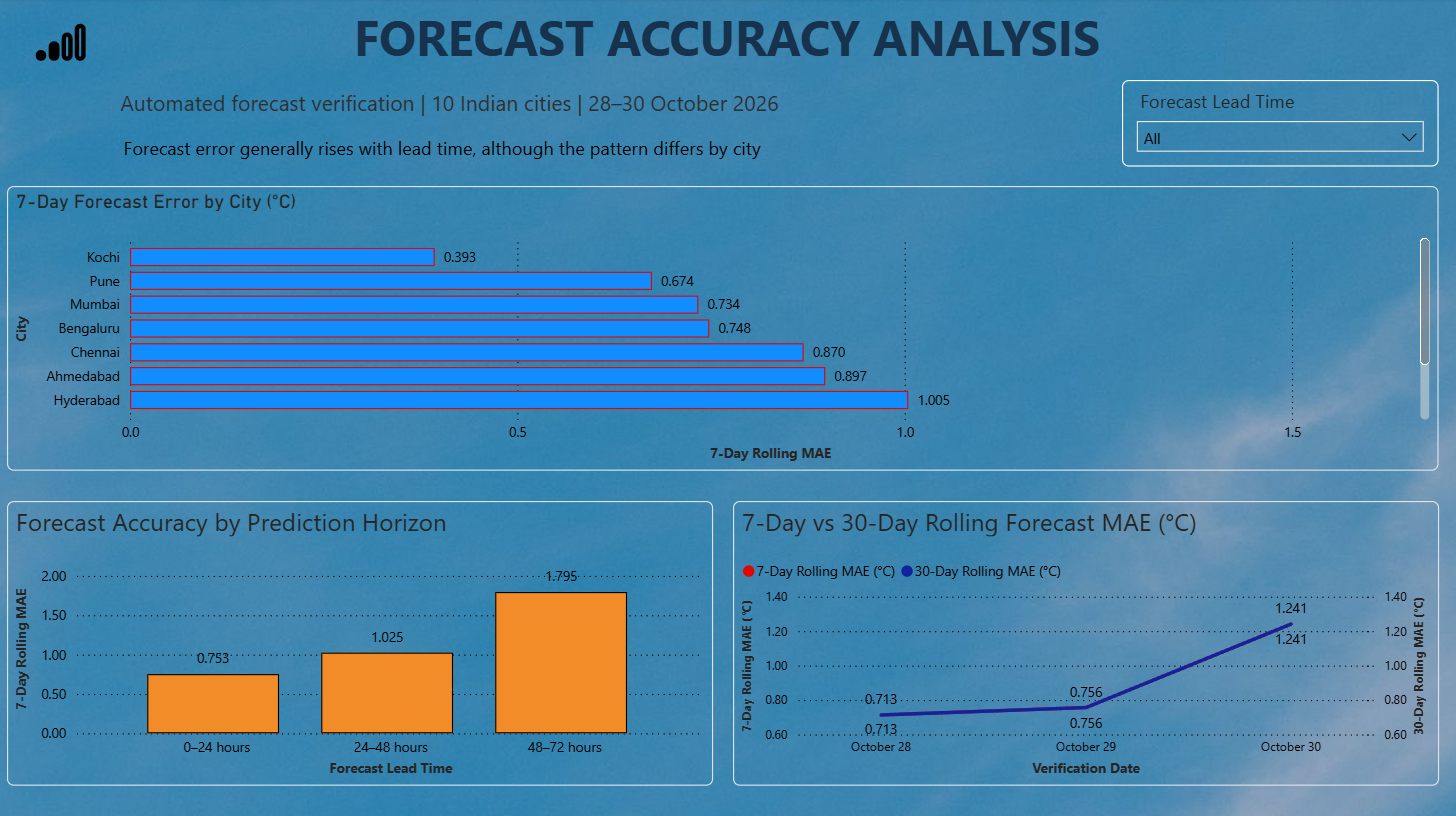

This screenshot's page, from the dashboard's own definition file:
{"tool":"powerbi","page":{"name":"FORECAST ACCURACY ANALYSIS","canvas":[1280,720],"ordinal":1},"visuals":[{"type":"textbox","box":[0,0,1280,165],"z":0},{"type":"clusteredBarChart","title":"7-Day Forecast Error by City (°C)","fields":{"Category":["public dim_city.city_name"],"Y":["Daily Forecast Accuracy.7-Day Rolling MAE"]},"box":[8,165,1257,250],"z":1000},{"type":"image","box":[8,15,95,46],"z":2000},{"type":"clusteredColumnChart","title":"Forecast Accuracy by Prediction Horizon","fields":{"Category":["Rolling Forecast Accuracy.lead_time_bucket"],"Y":["Daily Forecast Accuracy.7-Day Rolling MAE"]},"box":[8,442,620,250],"z":4000},{"type":"slicer","title":"Forecast Lead Time","fields":{"Values":["Rolling Forecast Accuracy.target_date"]},"box":[987,72,278,76],"z":5000},{"type":"lineChart","title":"7-Day vs 30-Day Rolling Forecast MAE (°C)","fields":{"Y":["Avg(Rolling Forecast Accuracy.rolling_7d_mae_c)"],"Y2":["Avg(Rolling Forecast Accuracy.rolling_30d_mae_c)"],"Category":["Rolling Forecast Accuracy.target_date"]},"box":[645,442,620,250],"z":6000}]}

Visuals, with their boxes in screenshot pixels (x1, y1, x2, y2), scaled from the page's 1280x720 canvas onto the 1456x816 screenshot:
textbox: [0, 0, 1455, 187]
"7-Day Forecast Error by City (°C)" clusteredBarChart: [9, 187, 1439, 470]
image: [9, 17, 117, 69]
"Forecast Accuracy by Prediction Horizon" clusteredColumnChart: [9, 501, 714, 784]
"Forecast Lead Time" slicer: [1123, 82, 1439, 168]
"7-Day vs 30-Day Rolling Forecast MAE (°C)" lineChart: [734, 501, 1439, 784]
